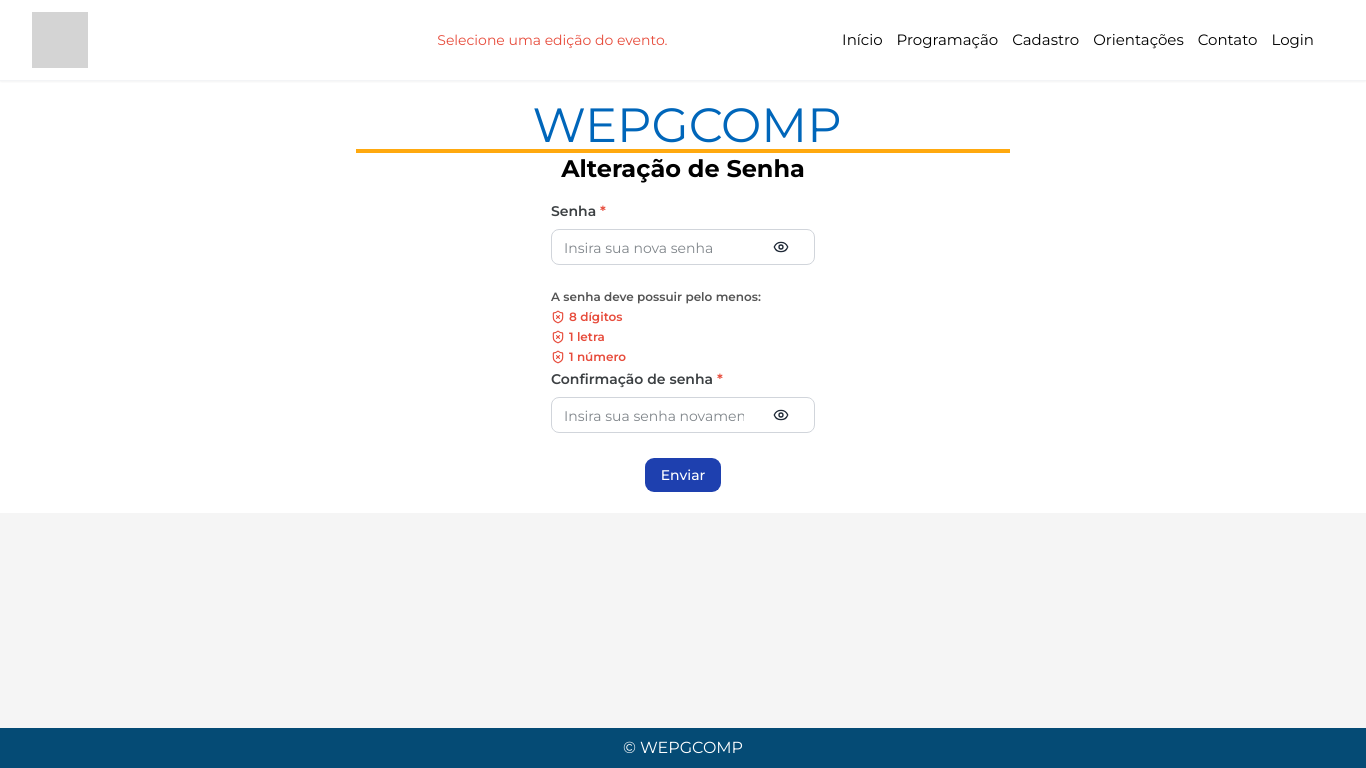
Test: Componente do Formulário de Alterar Senha › Deve exibir erros para senha abaixo do comprimento mínimo
Type "12345" into the password field with id "senha".
click(654, 247); type("12345")  # box [552, 230, 756, 264]
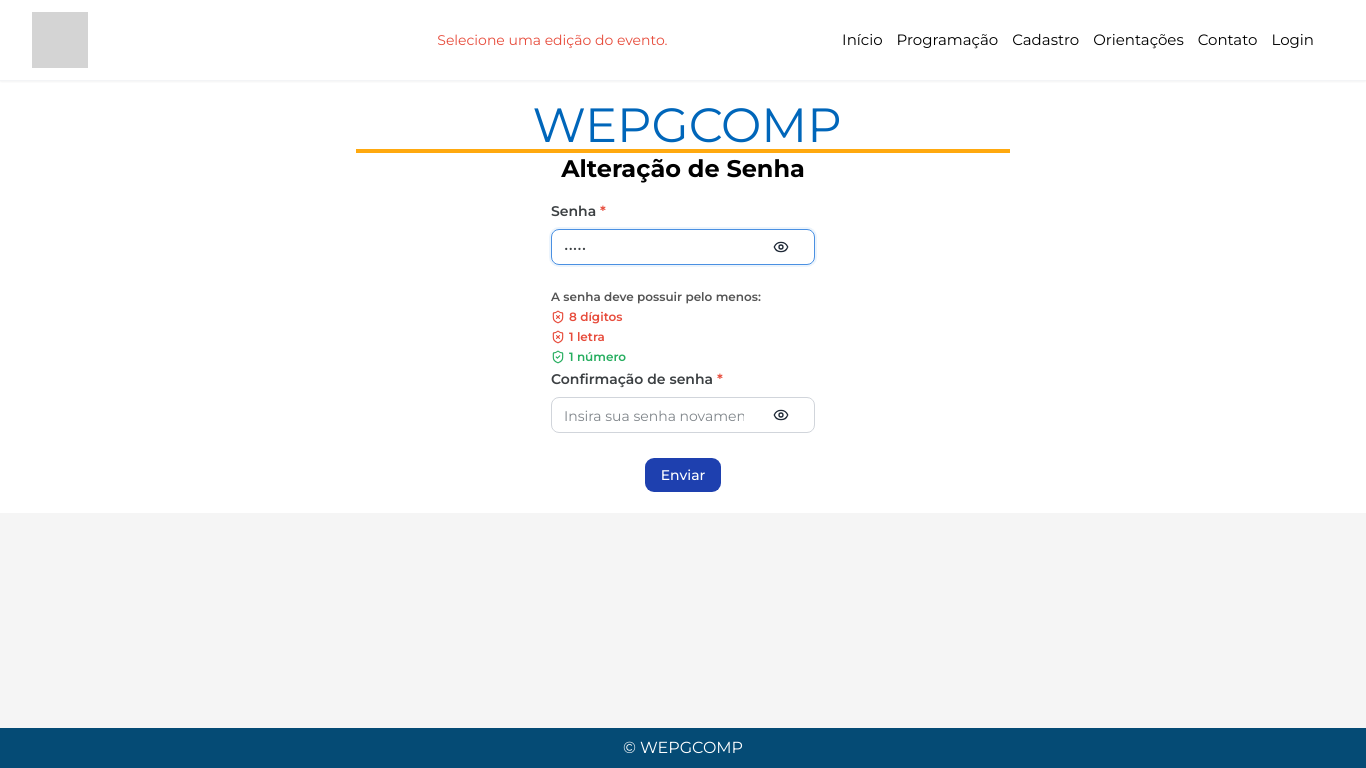
Type "12345" into the password field with id "confirmaSenha".
click(654, 415); type("12345")  # box [552, 398, 756, 432]
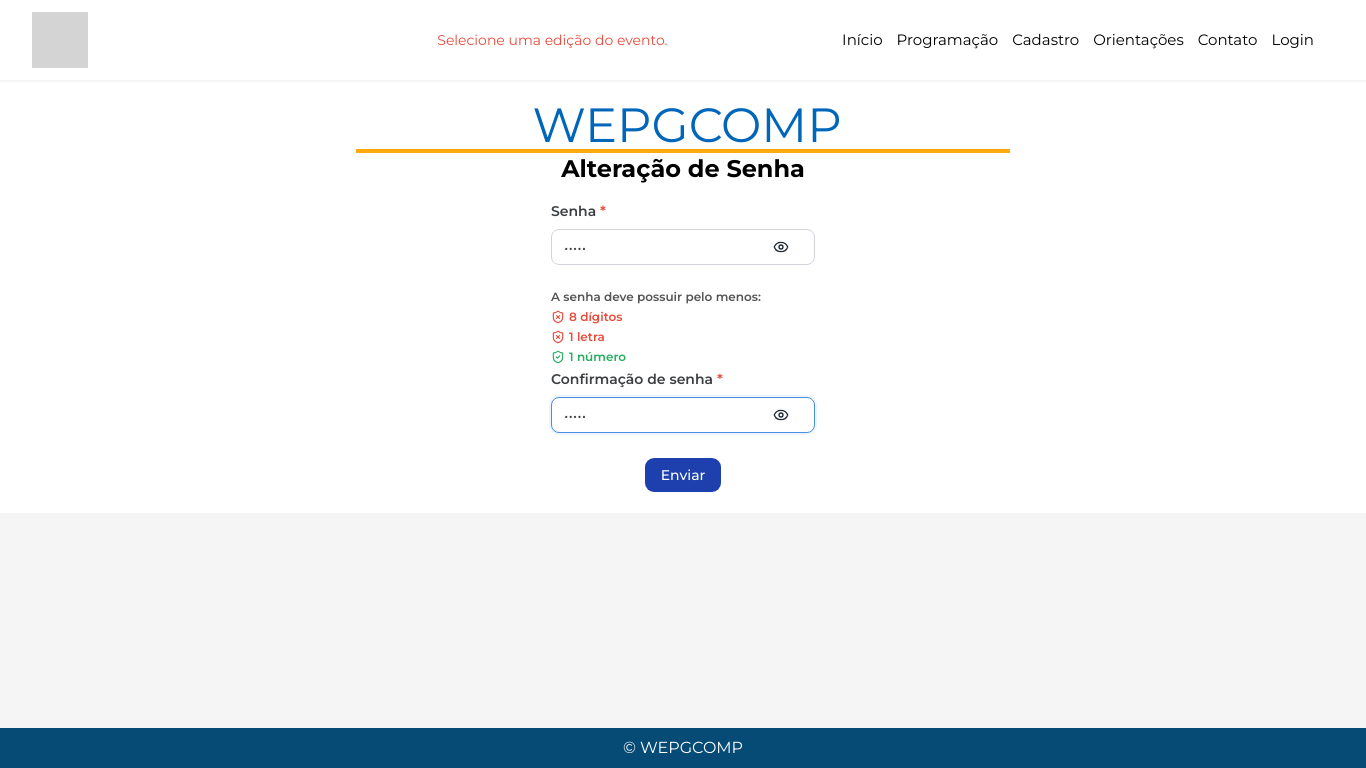
Click the submit button.
click(684, 475)  # box [644, 457, 723, 493]
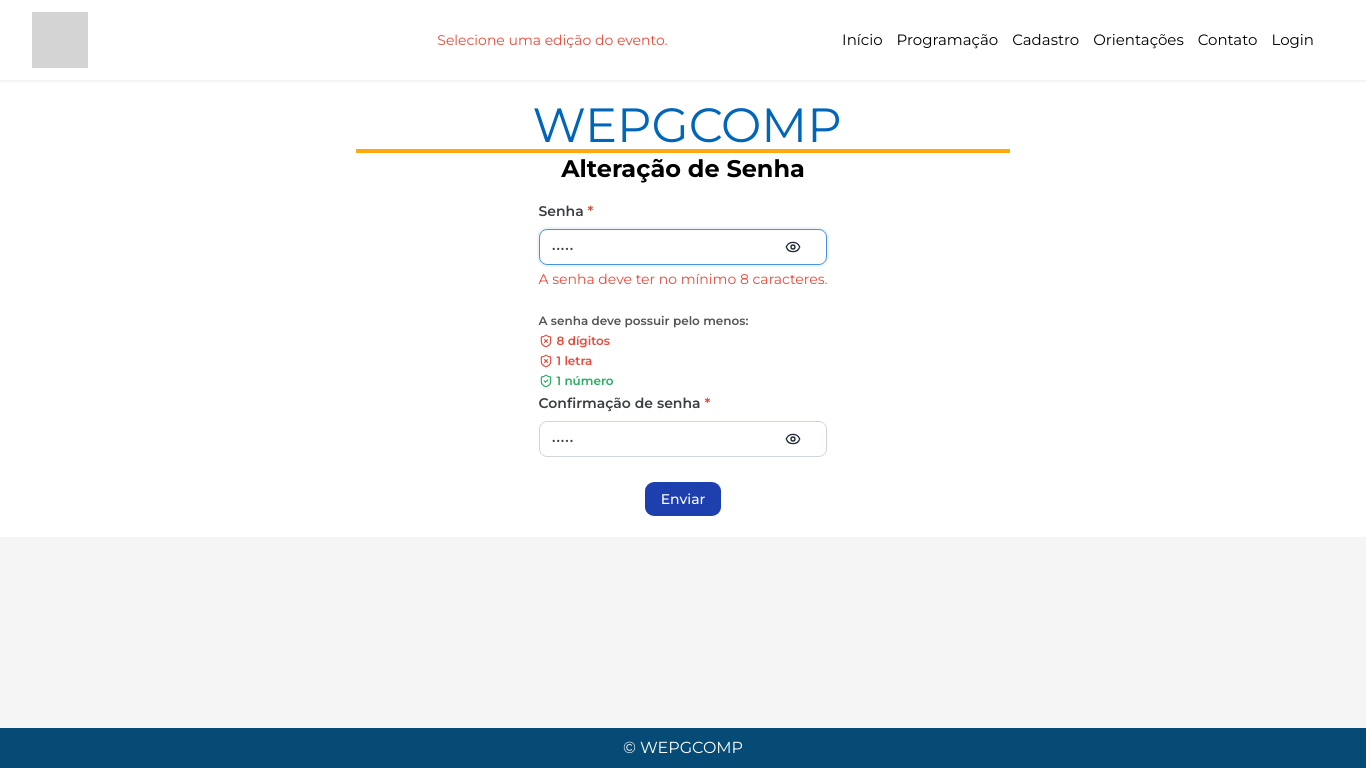
Now the text "A senha deve ter no mínimo 8 caracteres." is shown, box [538, 269, 828, 289]
